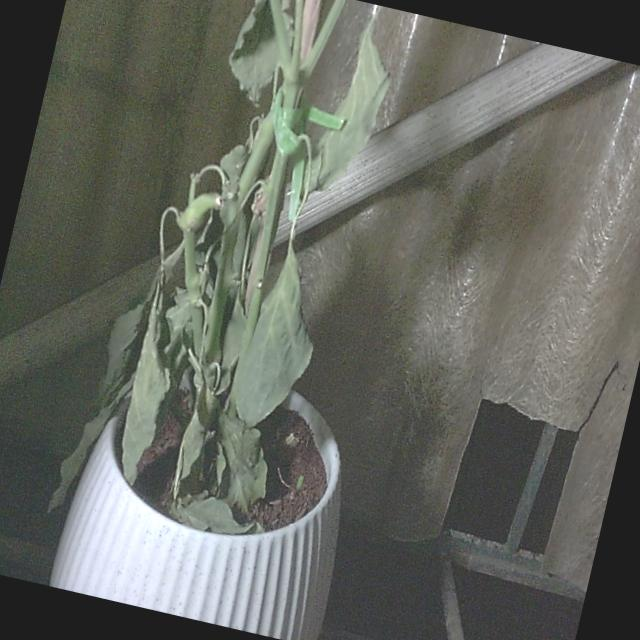Leaf: (227, 243, 336, 438), (108, 272, 203, 489)
